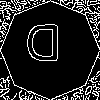D: (25, 25, 61, 70)
